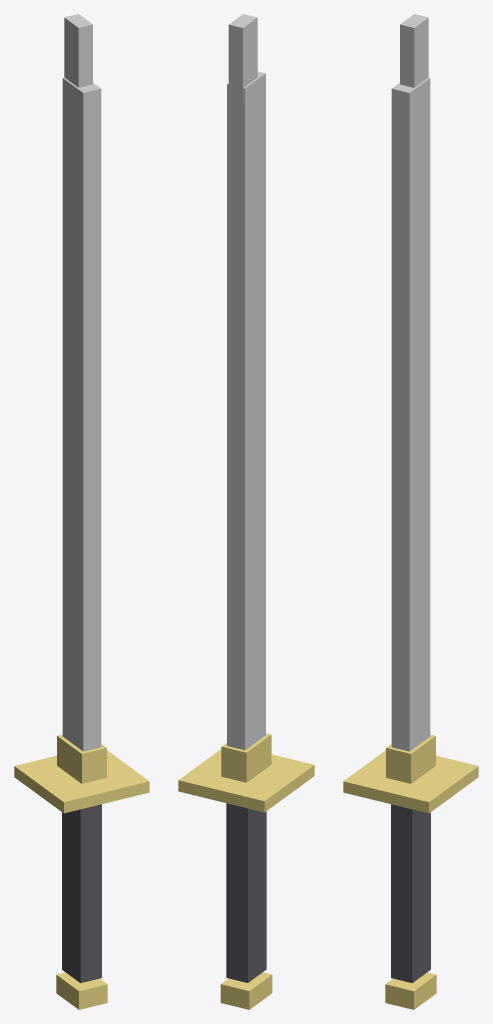
The model's file is weapon_katana.glb.
3 views of the same model, side by side, from view 1: azimuth 30°, elevation 25°; view 2: azimuth 150°, elevation 25°; view 3: azimuth 330°, elevation 25° (orthographic).
Parts seen in each view (by area): view 1: BladeNode, TsubaNode, HiltNode; view 2: BladeNode, TsubaNode, HiltNode; view 3: BladeNode, TsubaNode, HiltNode.
Part boxes in pixels (x1=…): BladeNode: x1=62, y1=14, x2=101, y2=751; TsubaNode: x1=14, y1=734, x2=149, y2=1009; HiltNode: x1=62, y1=804, x2=101, y2=983; BladeNode: x1=227, y1=14, x2=265, y2=750; TsubaNode: x1=178, y1=733, x2=314, y2=1009; HiltNode: x1=226, y1=803, x2=266, y2=982; BladeNode: x1=391, y1=14, x2=430, y2=751; TsubaNode: x1=343, y1=734, x2=478, y2=1009; HiltNode: x1=391, y1=804, x2=430, y2=983.
Size of the model in its own units: 0.12 by 1.3 by 0.12.
